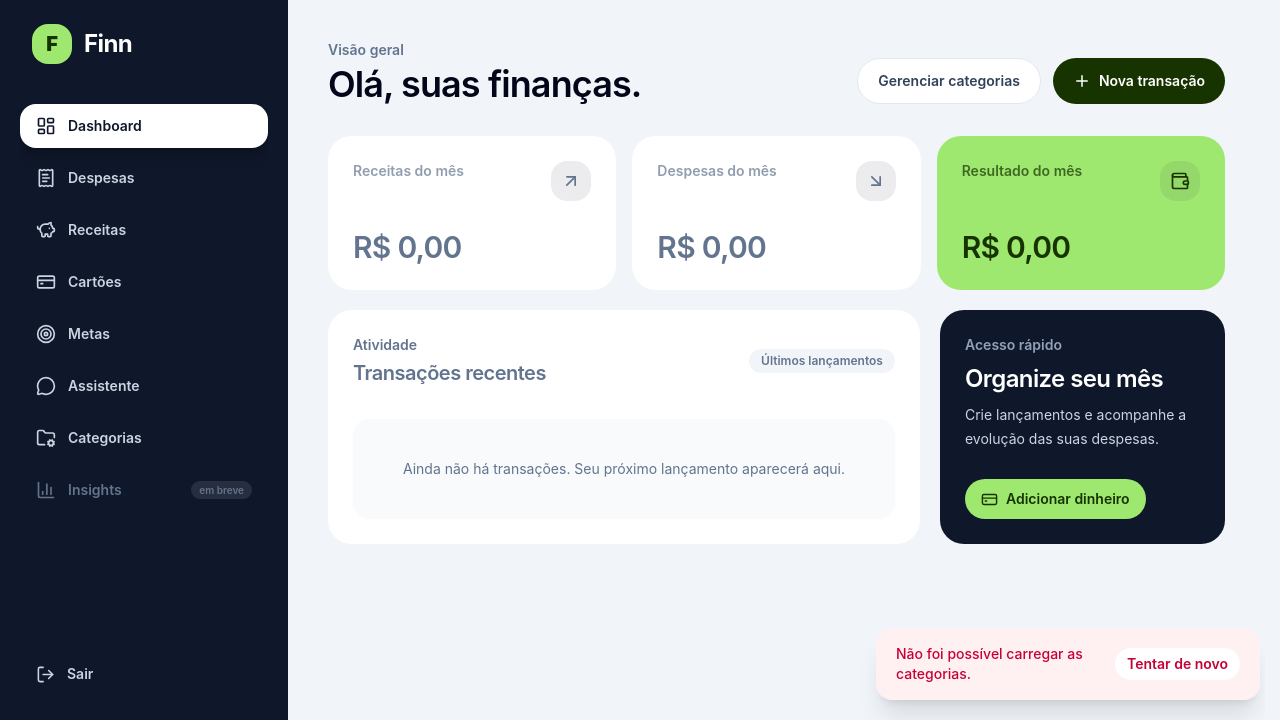
Test: carregamento de categorias (UI-02) › avisa a falha em vez de mostrar uma conta sem categorias e permite tentar de novo
Expected: the message shows "categorias", [896,645,1083,682]
Click the button "Tentar de novo".
click(1178, 664)  # box [1115,648,1240,680]
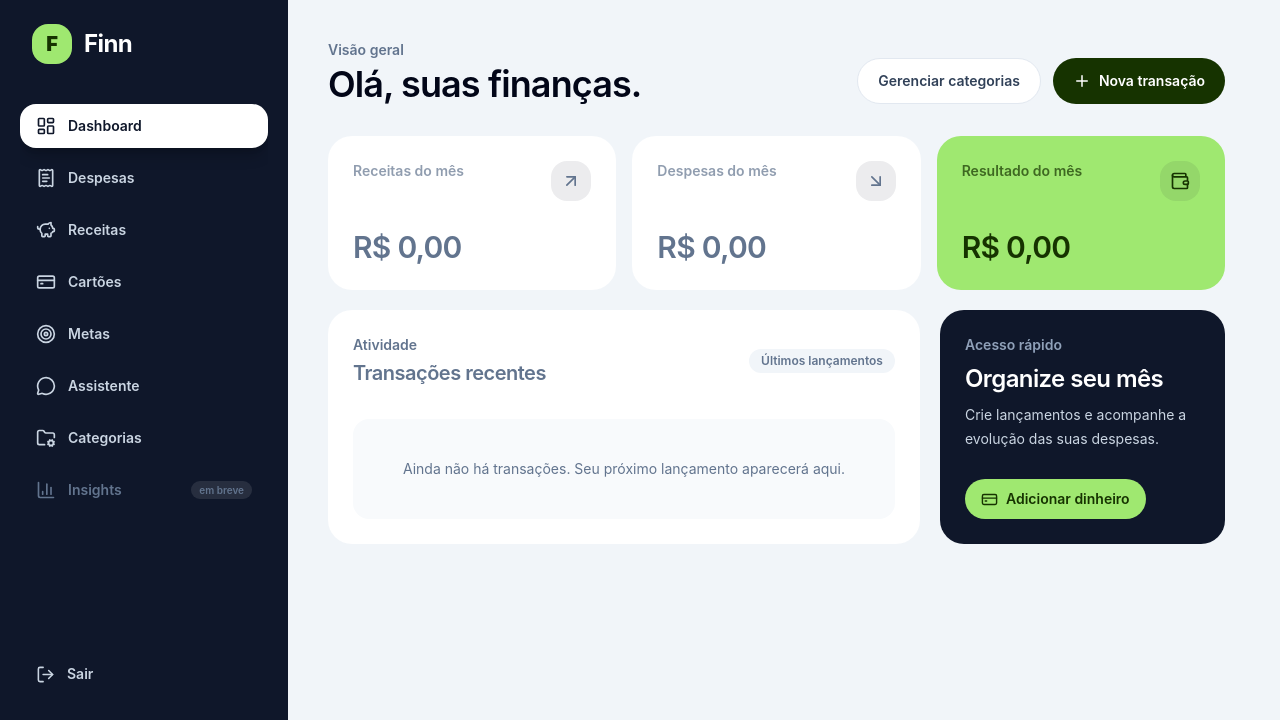
Now the message "Não foi possível carregar as categorias. Tentar de novo" is gone
